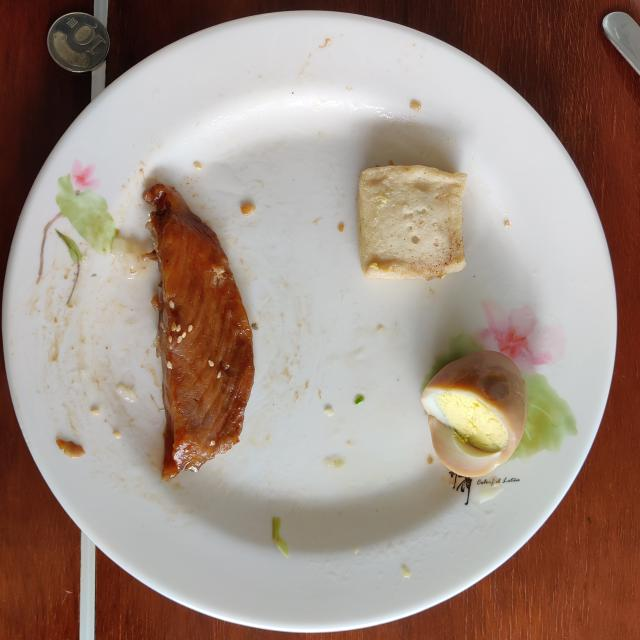Kabayaki sea bream fillet: (142, 184, 254, 480)
coin: (48, 12, 110, 72)
creamy tofu -without sauce-: (358, 165, 466, 280)
soy egg: (421, 350, 528, 478)
